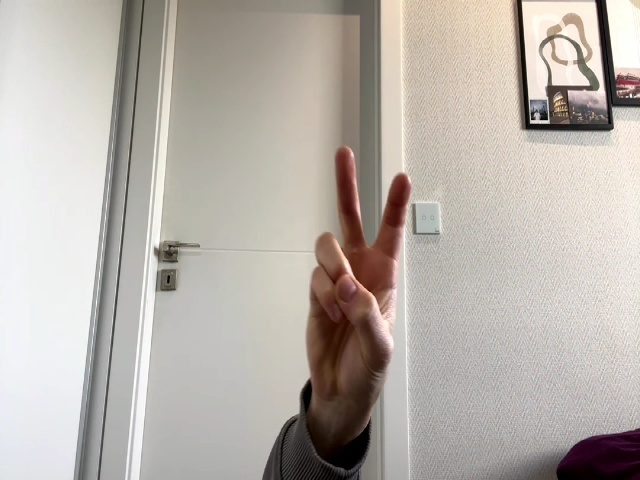H: (307, 147, 412, 390)
